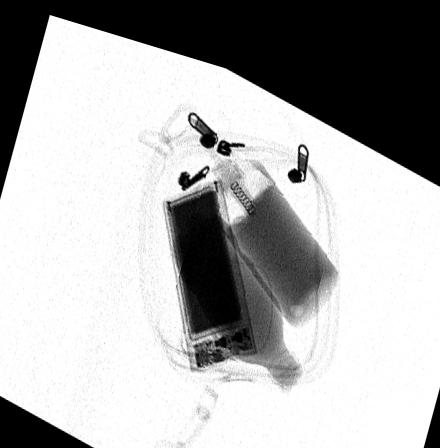Powerbank: (162, 165, 257, 361)
